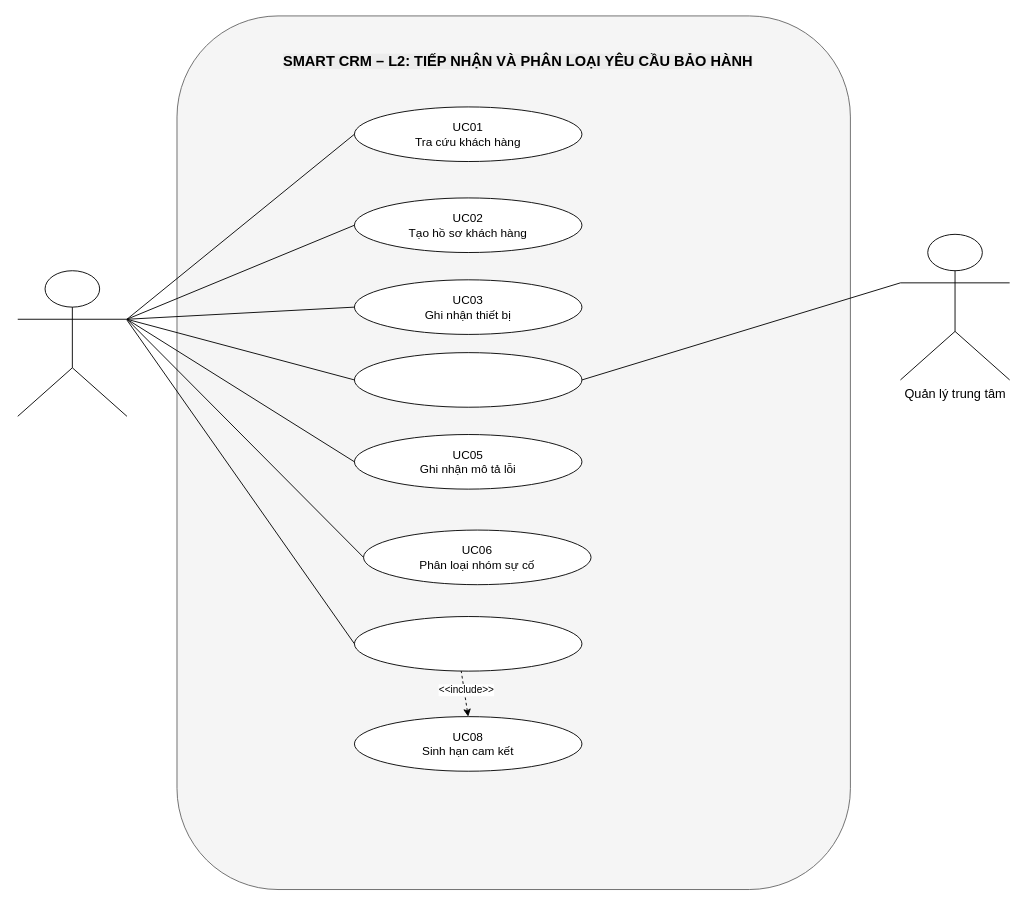
Some shapes in this 1026 by 905 pixel diagram are drawn without their labels. The box of each missing label's shape, as (x1, y1, x2, y2) in pixels:
Nhân viên tiếp nhận: (17, 270, 127, 416)
UC04 Kiểm tra tình trạng bảo hành: (354, 352, 582, 407)
UC07 Xác định mức ưu tiên: (354, 616, 582, 671)
